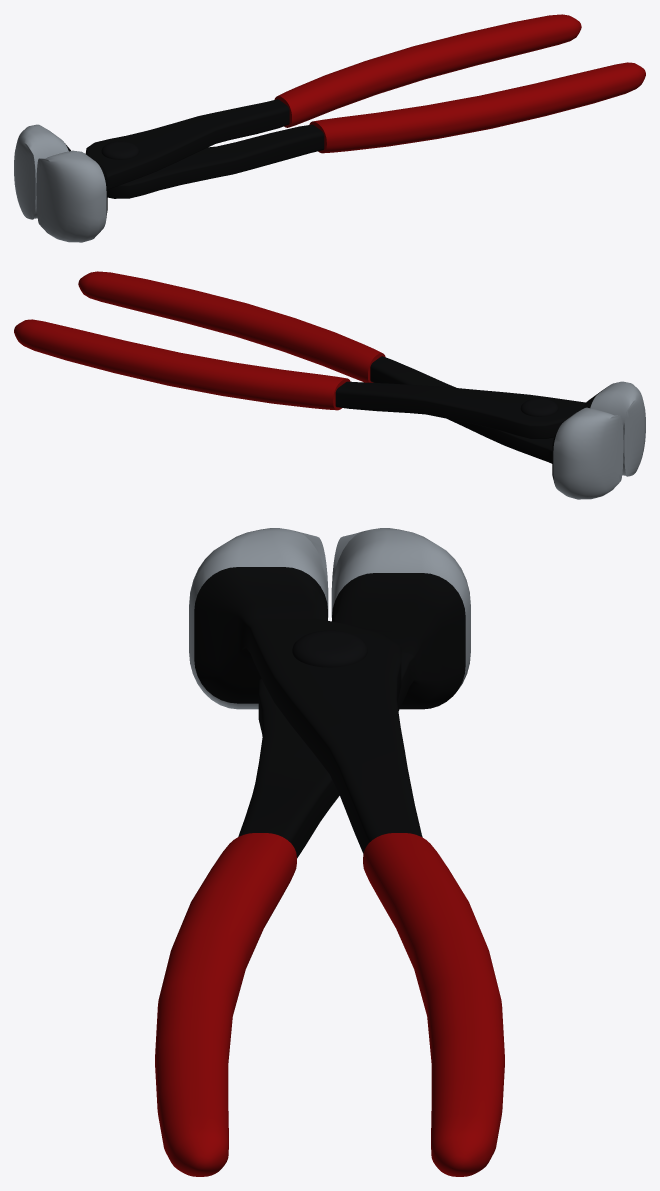
3 views of the same model, one above another, from view 1: azimuth 30°, elevation 25°; view 2: azimuth 150°, elevation 25°; view 3: azimuth 270°, elevation 25° (orthographic). The views are drawn at different scales.
Parts seen in each view (by area): view 1: part_003_Lower_red_handle_coating, part_000_Upper_red_handle_coating, part_001_Upper_grip_steel_arm, part_004_Lower_grip_steel_arm, part_002_Upper_grip_steel_arm, part_005_Lower_grip_steel_arm, part_006_Double_headed_pivot_rivet; view 2: part_000_Upper_red_handle_coating, part_003_Lower_red_handle_coating, part_001_Upper_grip_steel_arm, part_005_Lower_grip_steel_arm, part_004_Lower_grip_steel_arm, part_002_Upper_grip_steel_arm, part_006_Double_headed_pivot_rivet; view 3: part_001_Upper_grip_steel_arm, part_000_Upper_red_handle_coating, part_003_Lower_red_handle_coating, part_004_Lower_grip_steel_arm, part_005_Lower_grip_steel_arm, part_002_Upper_grip_steel_arm, part_006_Double_headed_pivot_rivet.
Part boxes in pixels (left/top/right/bottom): part_003_Lower_red_handle_coating: left=309, top=62, right=645, bottom=153; part_000_Upper_red_handle_coating: left=274, top=14, right=581, bottom=127; part_001_Upper_grip_steel_arm: left=85, top=99, right=289, bottom=217; part_004_Lower_grip_steel_arm: left=65, top=124, right=324, bottom=198; part_002_Upper_grip_steel_arm: left=36, top=150, right=106, bottom=242; part_005_Lower_grip_steel_arm: left=14, top=124, right=68, bottom=219; part_006_Double_headed_pivot_rivet: left=101, top=141, right=139, bottom=159; part_000_Upper_red_handle_coating: left=14, top=319, right=350, bottom=410; part_003_Lower_red_handle_coating: left=78, top=271, right=385, bottom=382; part_001_Upper_grip_steel_arm: left=335, top=381, right=606, bottom=438; part_005_Lower_grip_steel_arm: left=553, top=407, right=623, bottom=499; part_004_Lower_grip_steel_arm: left=370, top=356, right=557, bottom=479; part_002_Upper_grip_steel_arm: left=590, top=381, right=645, bottom=476; part_006_Double_headed_pivot_rivet: left=520, top=398, right=558, bottom=416; part_001_Upper_grip_steel_arm: left=194, top=567, right=422, bottom=853; part_000_Upper_red_handle_coating: left=363, top=833, right=504, bottom=1176; part_003_Lower_red_handle_coating: left=155, top=833, right=296, bottom=1176; part_004_Lower_grip_steel_arm: left=238, top=573, right=465, bottom=858; part_005_Lower_grip_steel_arm: left=331, top=528, right=470, bottom=693; part_002_Upper_grip_steel_arm: left=189, top=528, right=328, bottom=709; part_006_Double_headed_pivot_rivet: left=292, top=630, right=367, bottom=667.
Size of the model in its own units: 0.205 by 0.028 by 0.0539.
